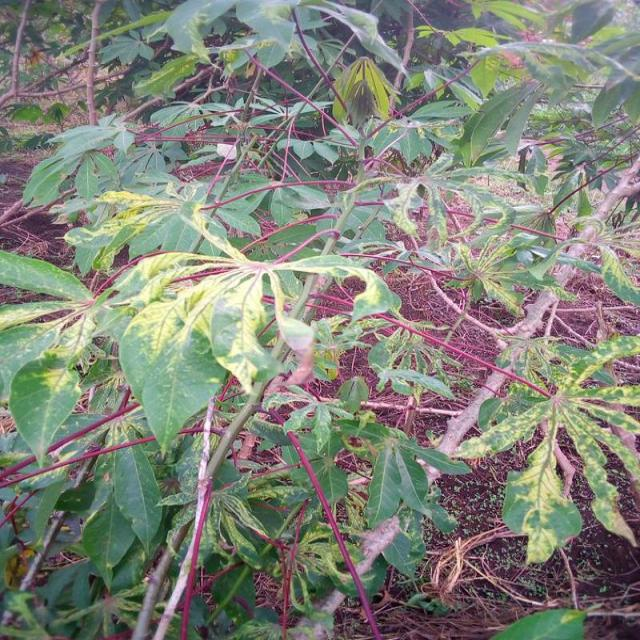Mosaico: (109, 254, 391, 388), (489, 329, 640, 558), (9, 249, 146, 447), (253, 518, 373, 626), (164, 481, 292, 571), (427, 236, 564, 314), (71, 176, 201, 258), (331, 60, 408, 133)
